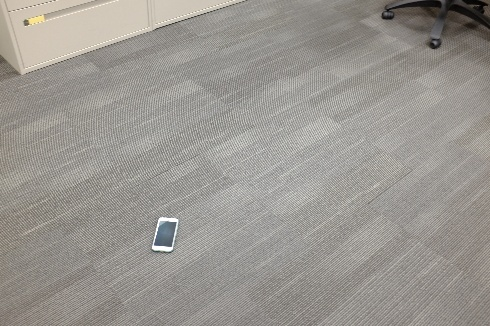phone: (142, 217, 191, 249)
